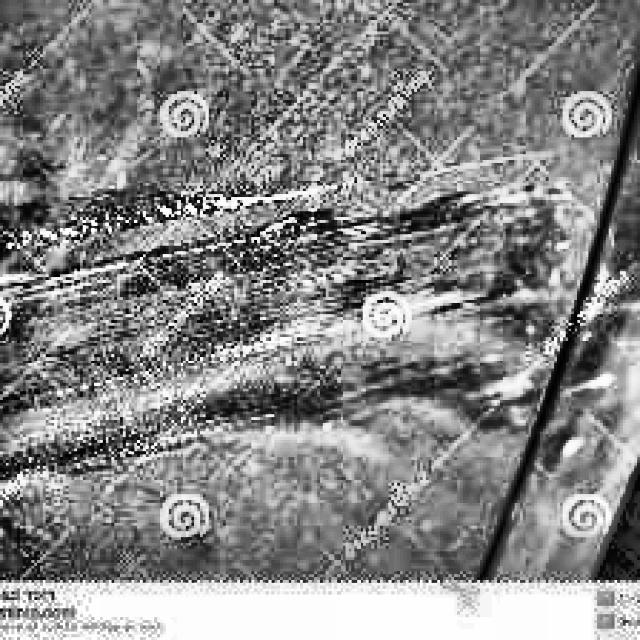door_scratch: (28, 265, 396, 370), (388, 141, 574, 243), (39, 191, 346, 237)
